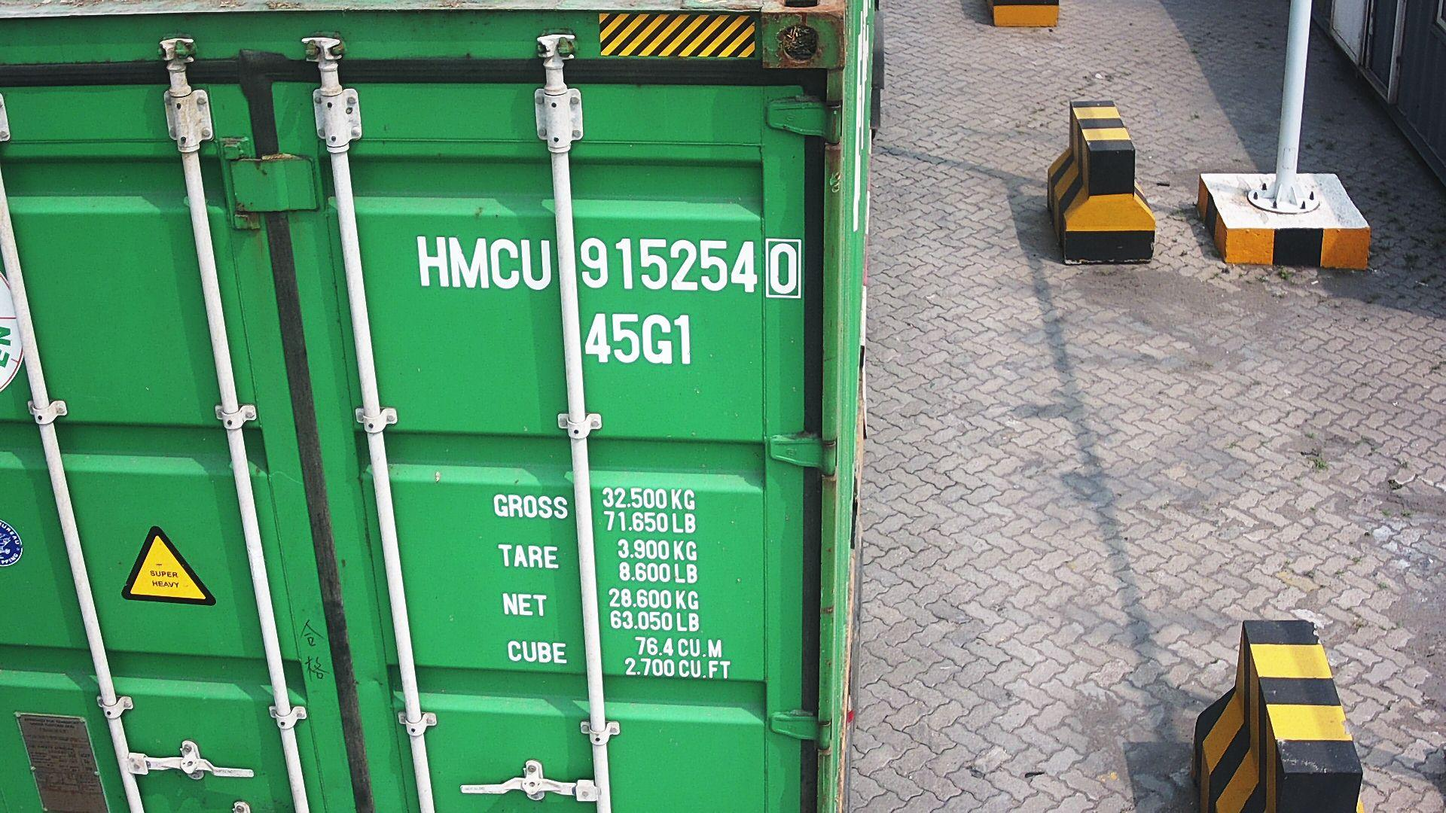container-numbers: (413, 230, 810, 301), (580, 309, 698, 369)
